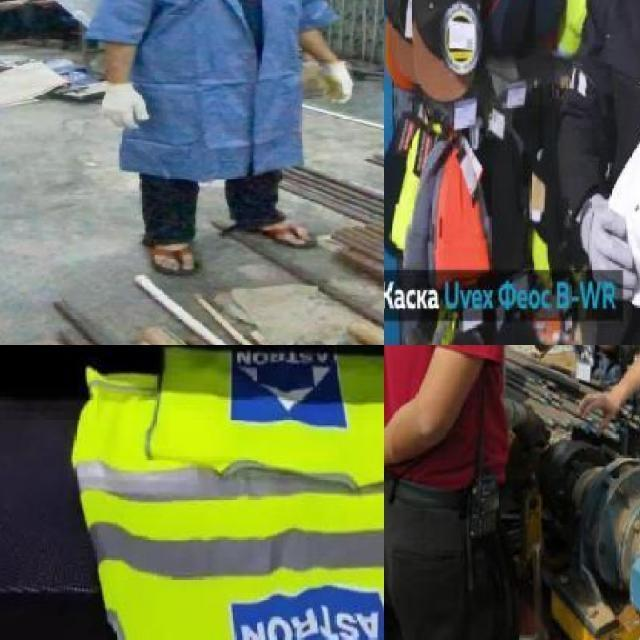apron: (578, 190, 638, 307), (90, 78, 152, 126), (316, 58, 368, 107)
